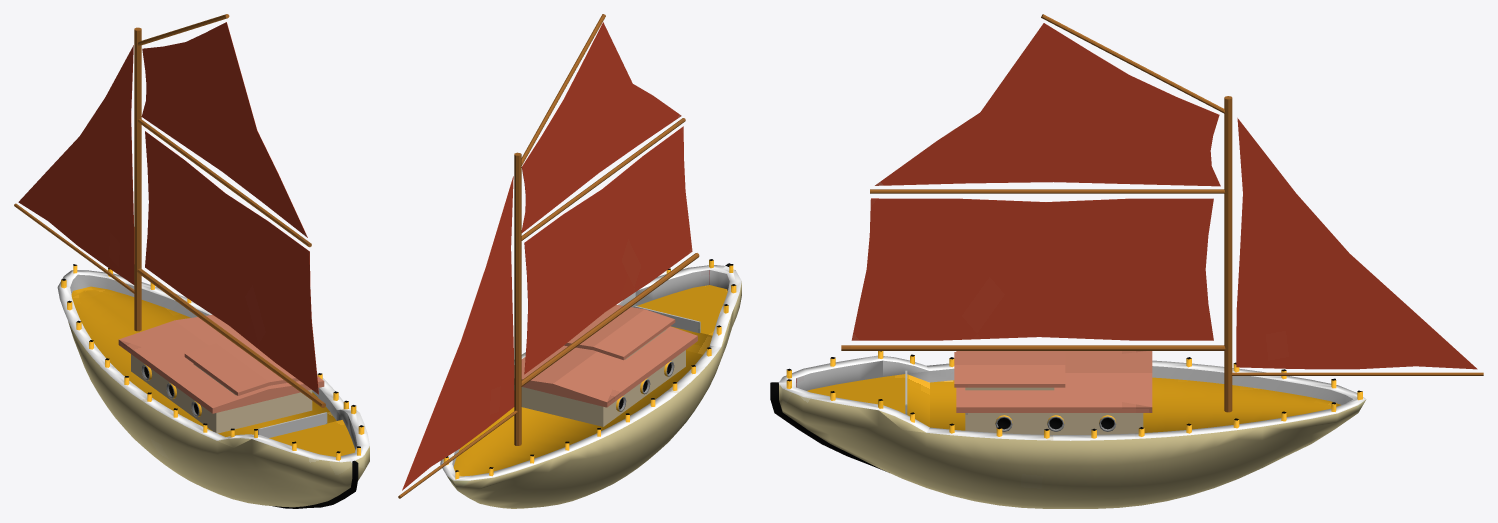
File: tekne-2.fbx
3 views of the same model, side by side, from view 1: azimuth 30°, elevation 25°; view 2: azimuth 150°, elevation 25°; view 3: azimuth 270°, elevation 25° (orthographic). The views are drawn at different scales.
Parts seen in each view (by area): view 1: tekne.yelkenler.000, tekne.govde.000; view 2: tekne.yelkenler.000, tekne.govde.000; view 3: tekne.yelkenler.000, tekne.govde.000.
Boxes of the visible parts, left/top/right/bottom form: tekne.yelkenler.000: left=14, top=14, right=325, bottom=407; tekne.govde.000: left=57, top=264, right=369, bottom=508; tekne.yelkenler.000: left=398, top=14, right=699, bottom=498; tekne.govde.000: left=440, top=259, right=741, bottom=508; tekne.yelkenler.000: left=841, top=14, right=1483, bottom=412; tekne.govde.000: left=770, top=351, right=1366, bottom=508.
Size of the model in its own units: 3.41 by 9.38 by 12.39.
Materials: 1 (1 with a texture image).
